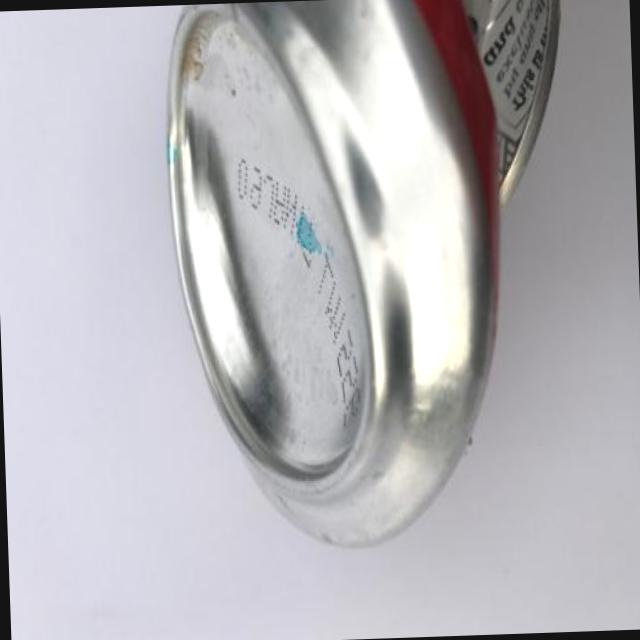kim_loai: (167, 0, 561, 546)
